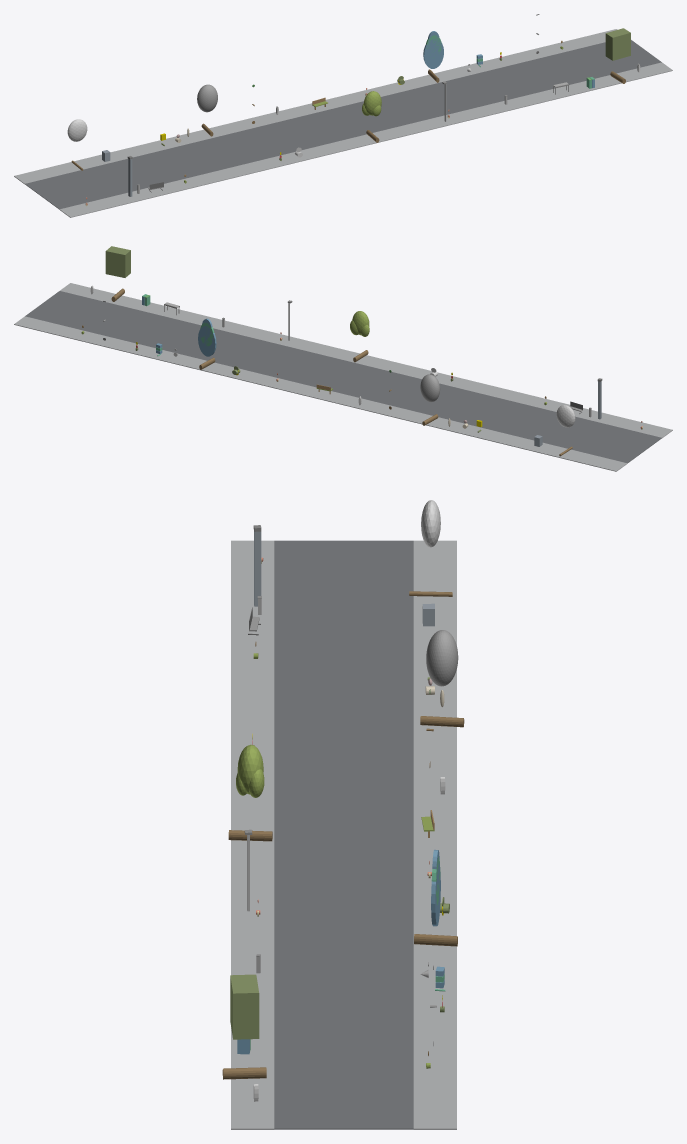
3 views of the same model, one above another, from view 1: azimuth 30°, elevation 25°; view 2: azimuth 150°, elevation 25°; view 3: azimuth 270°, elevation 25° (orthographic). The views are drawn at different scales.
Visible parts, largest first — view 1: road_slab, sidewalk_left, sidewalk_right, inst_0016, inst_0015, inst_0013, inst_0014, inst_0012; view 2: road_slab, sidewalk_right, sidewalk_left, inst_0016, inst_0015, inst_0013, inst_0014, inst_0012; view 3: road_slab, sidewalk_right, sidewalk_left, inst_0016, inst_0013, inst_0014, inst_0015, inst_0012.
Part boxes in pixels (x1,y1,x2,y2): road_slab: [25, 40, 661, 209]; sidewalk_left: [59, 62, 672, 217]; sidewalk_right: [14, 29, 617, 184]; inst_0016: [605, 28, 630, 83]; inst_0015: [423, 31, 443, 82]; inst_0013: [197, 84, 217, 136]; inst_0014: [362, 91, 381, 142]; inst_0012: [67, 119, 87, 170]; road_slab: [25, 291, 661, 463]; sidewalk_right: [14, 316, 627, 471]; sidewalk_left: [60, 283, 672, 438]; inst_0016: [105, 246, 130, 301]; inst_0015: [198, 318, 216, 369]; inst_0013: [420, 374, 440, 425]; inst_0014: [350, 311, 369, 362]; inst_0012: [556, 405, 575, 456]; road_slab: [274, 540, 413, 1129]; sidewalk_right: [413, 540, 456, 1129]; sidewalk_left: [231, 540, 274, 1129]; inst_0016: [222, 974, 266, 1079]; inst_0013: [420, 630, 464, 727]; inst_0014: [228, 744, 272, 841]; inst_0015: [414, 849, 457, 946]; inst_0012: [409, 500, 452, 596].
Size of the model in its own units: 80 by 6.08 by 13.88.
